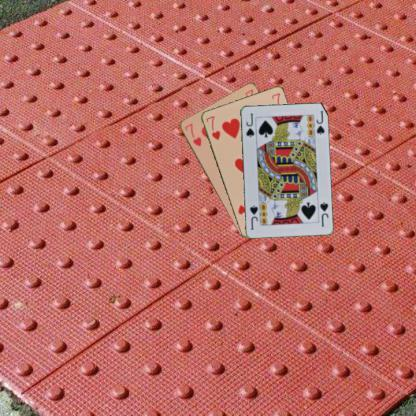7h: (181, 120, 203, 149), (202, 113, 221, 142)
Js: (244, 110, 256, 138), (318, 199, 329, 228)
